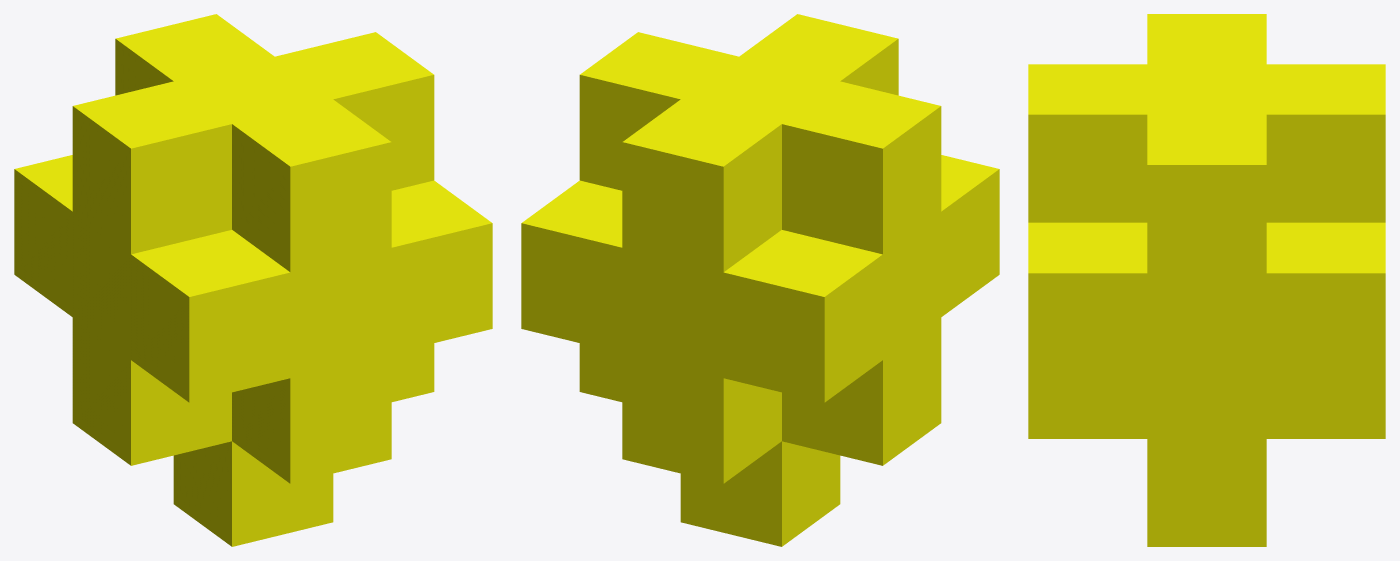
The model's file is voxel-village-red-gem.glb.
3 views of the same model, side by side, from view 1: azimuth 30°, elevation 25°; view 2: azimuth 150°, elevation 25°; view 3: azimuth 270°, elevation 25° (orthographic). The views are drawn at different scales.
Visible parts, largest first — view 1: VS_Villagers_Gem_Red; view 2: VS_Villagers_Gem_Red; view 3: VS_Villagers_Gem_Red.
Part boxes in pixels (box(x1,y1,x2,y2)): VS_Villagers_Gem_Red: box(14, 14, 492, 546); VS_Villagers_Gem_Red: box(521, 14, 999, 546); VS_Villagers_Gem_Red: box(1028, 14, 1385, 546).
Bounding box in the file's own units: 0.3 × 0.4 × 0.3.
